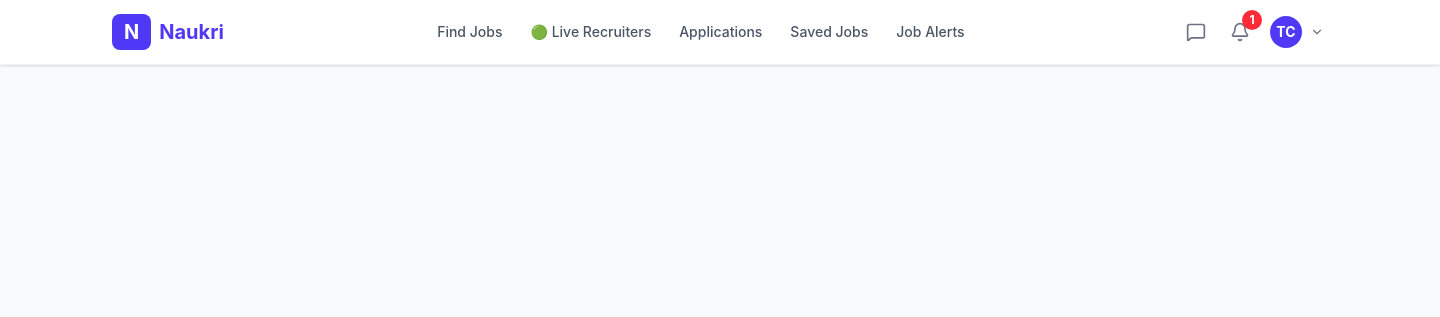
it: Navbar — notification dropdown › opens notification dropdown on bell button click
Click the button "1" at [1240, 32], box [1222,14,1258,50]
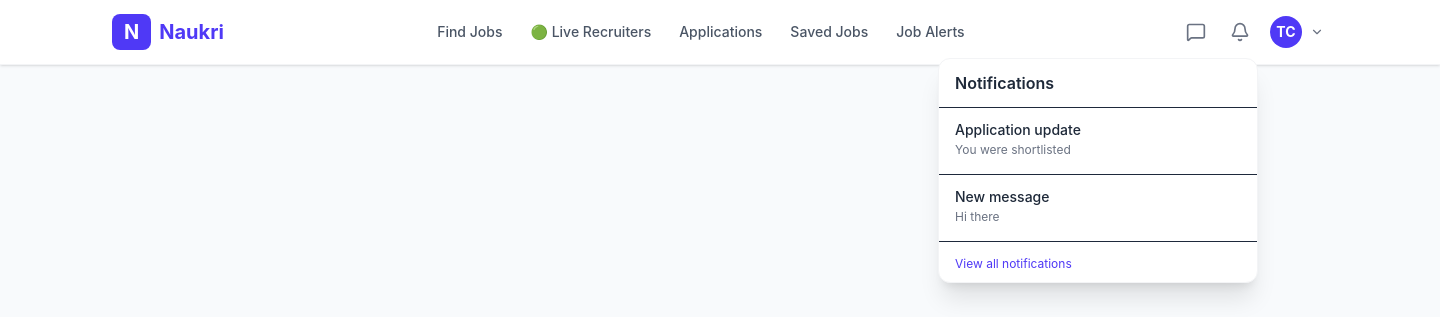
Check: the text "Notifications" is shown, box [955,71,1054,95]
